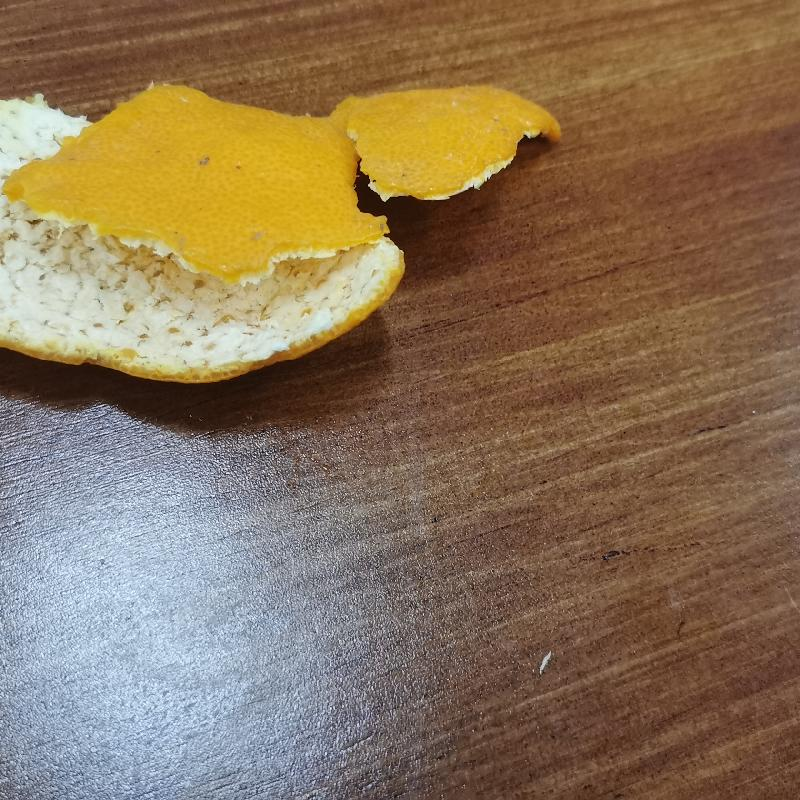orange: (3, 79, 568, 390)
